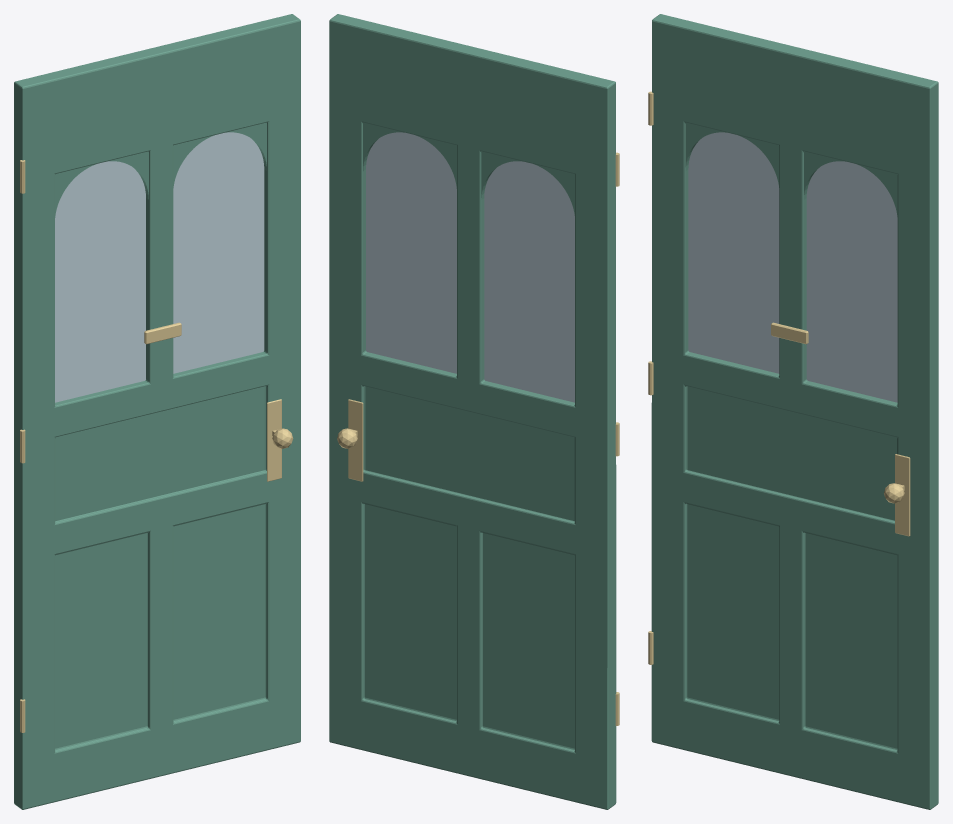
Rendered from door_leaf_front_c.glb.
3 renders of one model, left to right at view 1: azimuth 30°, elevation 25°; view 2: azimuth 150°, elevation 25°; view 3: azimuth 330°, elevation 25°, orthographic.
Parts seen in each view (by area): view 1: door_leaf_front_c_door_c, door_leaf_front_c_glass, door_leaf_front_c_brass; view 2: door_leaf_front_c_door_c, door_leaf_front_c_glass, door_leaf_front_c_brass; view 3: door_leaf_front_c_door_c, door_leaf_front_c_glass, door_leaf_front_c_brass.
Part boxes in pixels (x1=…): door_leaf_front_c_door_c: x1=14, y1=14, x2=300, y2=809; door_leaf_front_c_glass: x1=55, y1=132, x2=264, y2=402; door_leaf_front_c_brass: x1=20, y1=160, x2=293, y2=732; door_leaf_front_c_door_c: x1=329, y1=14, x2=616, y2=809; door_leaf_front_c_glass: x1=366, y1=132, x2=574, y2=402; door_leaf_front_c_brass: x1=337, y1=152, x2=619, y2=725; door_leaf_front_c_door_c: x1=651, y1=14, x2=938, y2=809; door_leaf_front_c_glass: x1=688, y1=132, x2=897, y2=402; door_leaf_front_c_brass: x1=648, y1=91, x2=910, y2=664.
Bounding box in the file's own units: 0.928 × 2.28 × 0.21.
